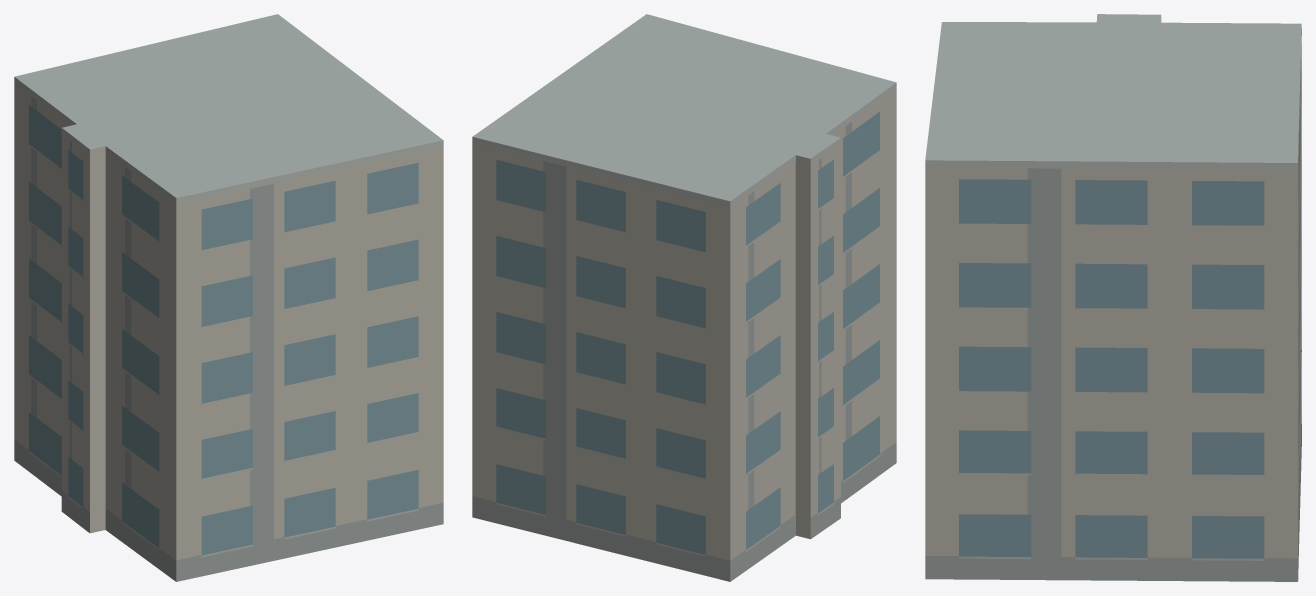
The model's file is survey-upis-32637696.glb.
3 views of the same model, side by side, from view 1: azimuth 30°, elevation 25°; view 2: azimuth 150°, elevation 25°; view 3: azimuth 270°, elevation 25° (orthographic). The views are drawn at different scales.
Visible parts, largest first — view 1: survey-upis-32637696.tmp; view 2: survey-upis-32637696.tmp; view 3: survey-upis-32637696.tmp.
Boxes of the visible parts, left/top/right/bottom form: survey-upis-32637696.tmp: left=14, top=14, right=443, bottom=581; survey-upis-32637696.tmp: left=472, top=14, right=896, bottom=581; survey-upis-32637696.tmp: left=925, top=14, right=1301, bottom=581.
Size of the model in its own units: 10.65 by 13.95 by 11.38.
